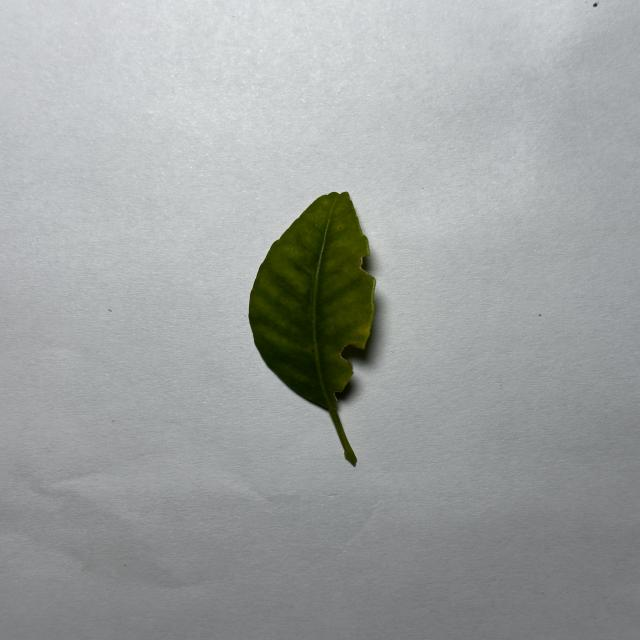greening: (248, 192, 375, 466)
